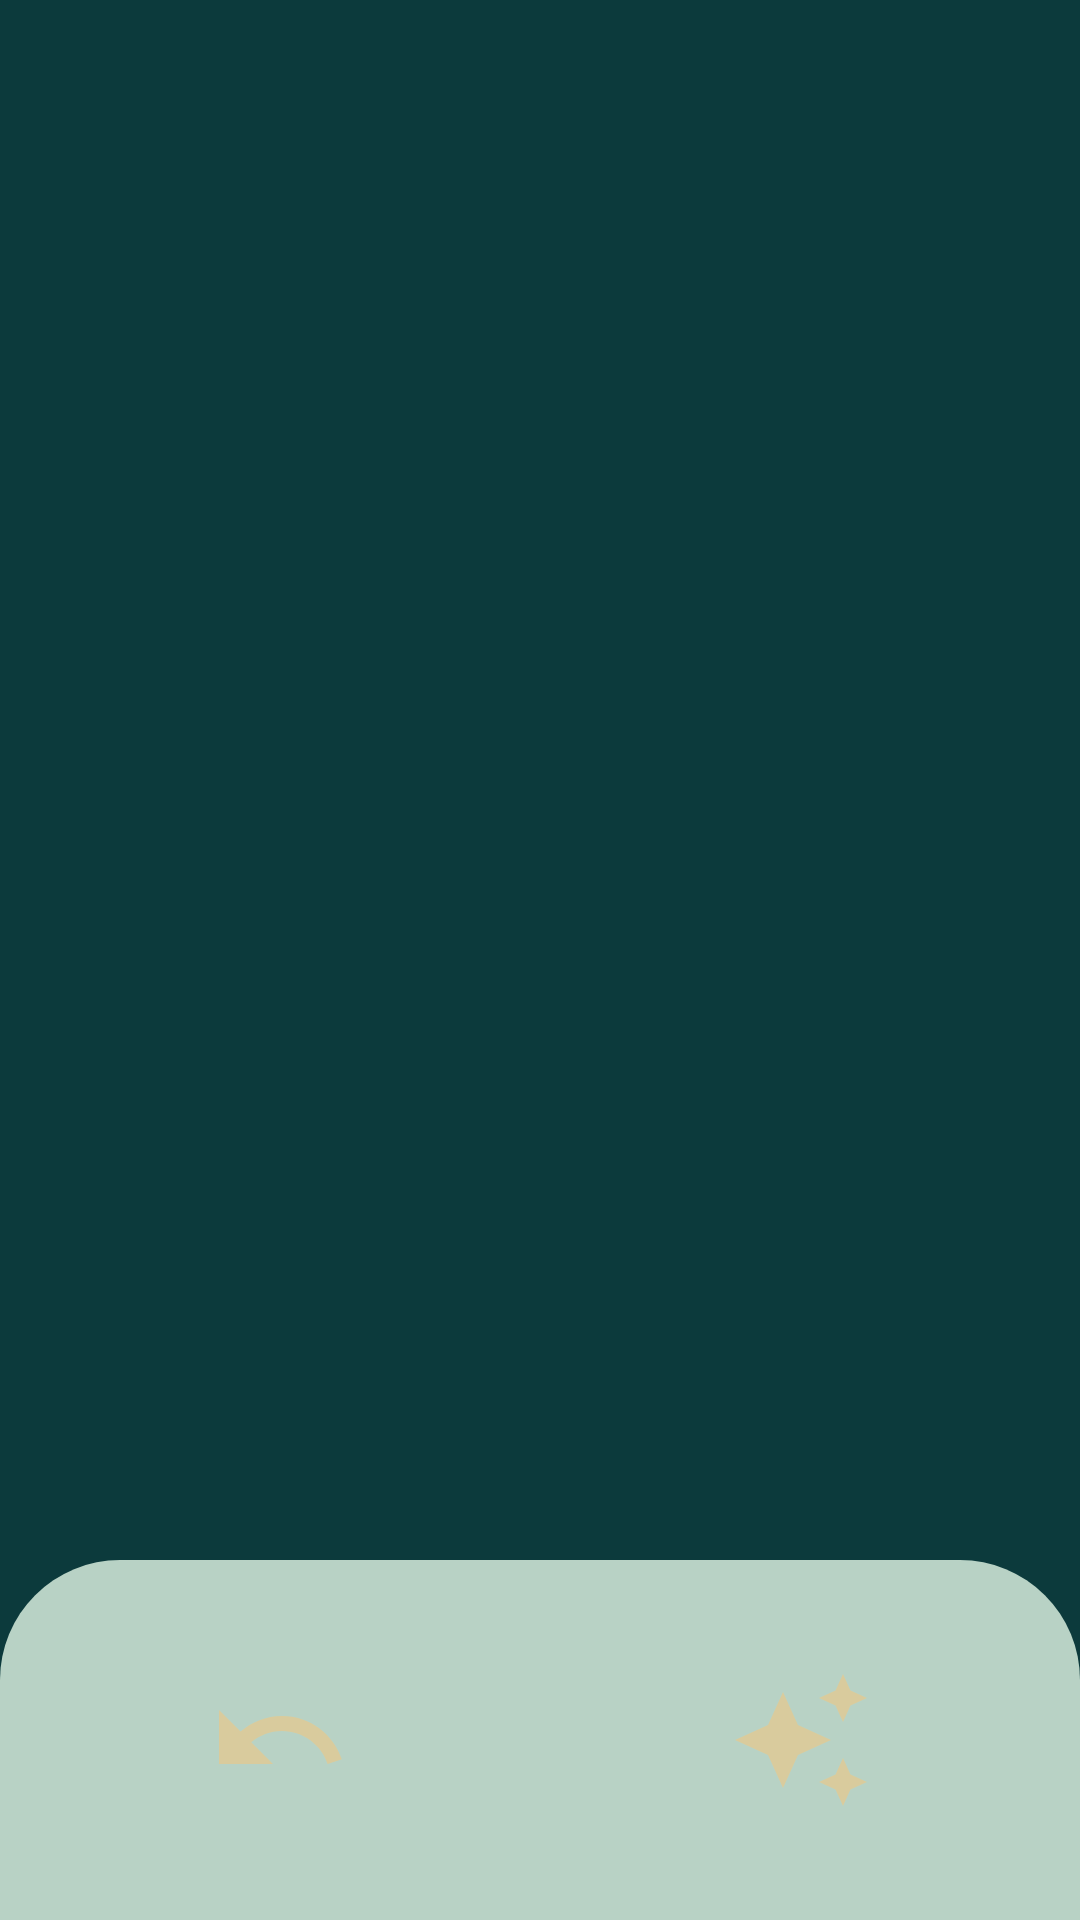

Screen size 1080px×1920px. Icon name, then its box in pixels as (x1, y1, x2, y2):
discard button: (219, 1711, 341, 1764)
Enhance button: (736, 1675, 866, 1805)
